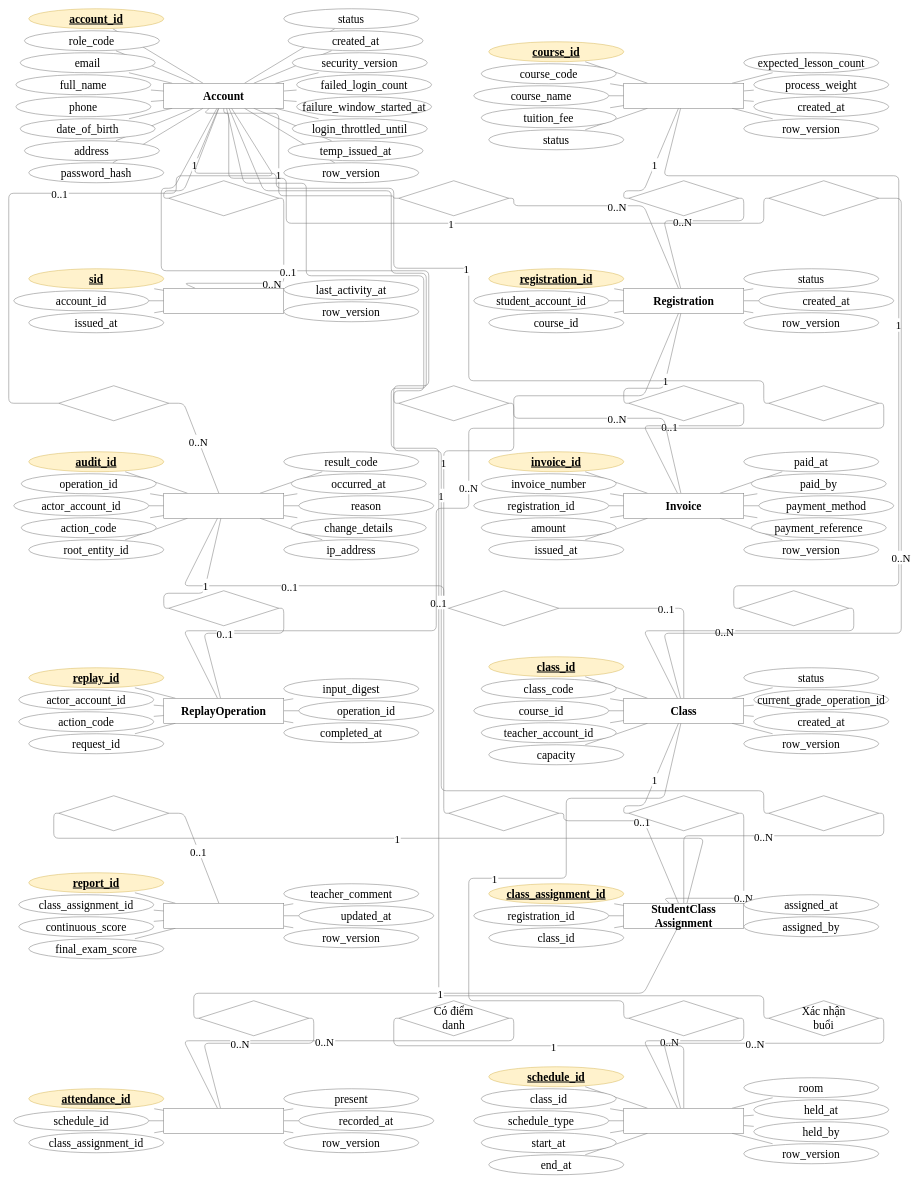
The diagram is 920 pixels wide and 1184 high, and some of its shapes have lost their labels. The shapes that lost their labels are listed below. From the top down, each one's centre as x and y in pixels, then its label:
[683,95]: Course
[223,198]: Có phiên
[453,198]: Đăng ký
[683,198]: Thuộc khóa
[823,198]: Giảng dạy
[223,300]: AuthSession
[113,403]: Thực hiện
[453,403]: Thu tiền
[683,403]: Có hóa đơn
[823,403]: Gửi lệnh
[223,505]: AuditLog
[223,608]: Ghi nhận lệnh
[503,608]: Quyết định điểm
[793,608]: Có lớp
[113,813]: Có bảng điểm
[503,813]: Được xếp lớp
[683,813]: Có học viên
[823,813]: Xếp lớp
[223,915]: GradeReport
[253,1018]: Được điểm danh
[683,1018]: Có lịch
[223,1120]: Attendance
[683,1120]: Schedule
